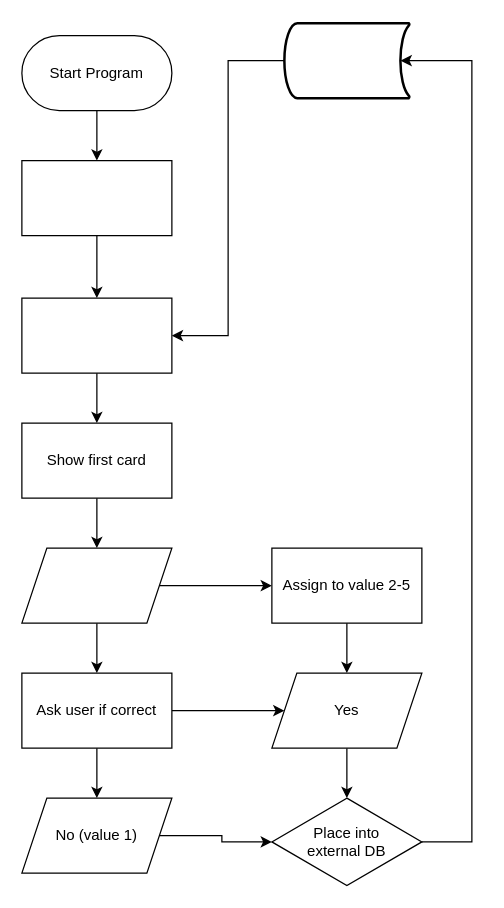
Some shapes in this 504 by 908 pixel diagram are drawn without their labels. The centre of each missing label's shape, as x and y in pixels:
Determine first card: the point at 96,197
External Data: the point at 346,60
Log when user presses 'enter': the point at 96,585
Randomize order of items of know values 1-5: the point at 96,335
